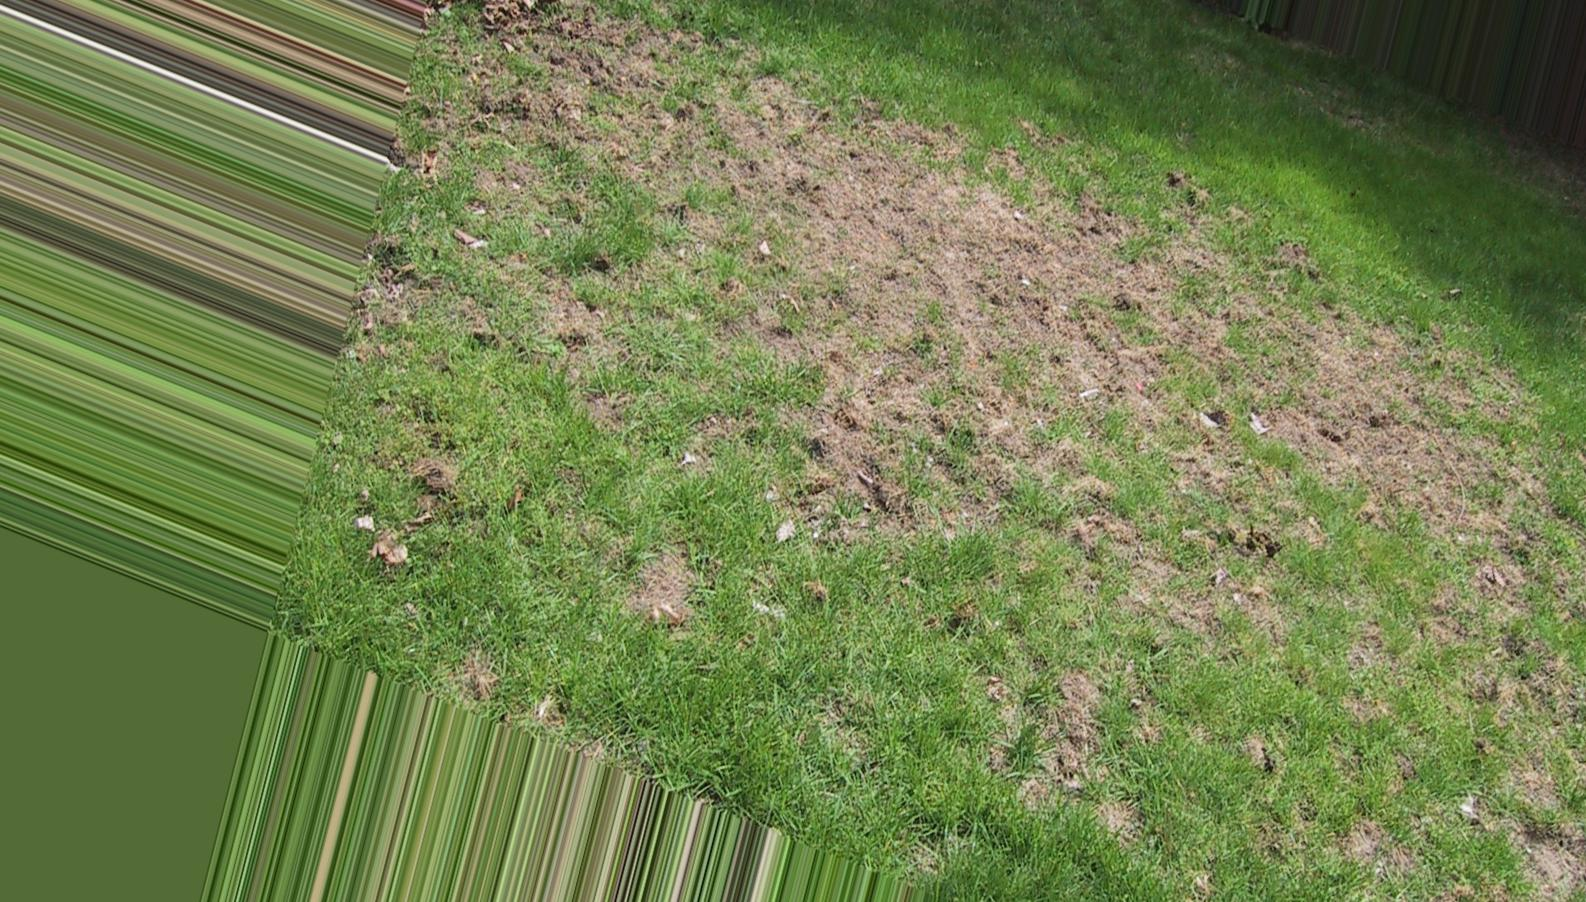patch: (728, 113, 1183, 537)
